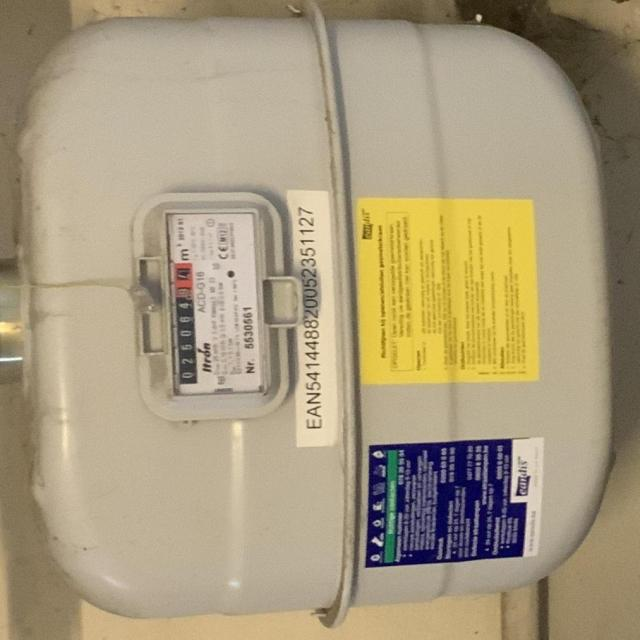gaz_meter: (155, 208, 276, 402)
indication: (173, 262, 198, 386)
